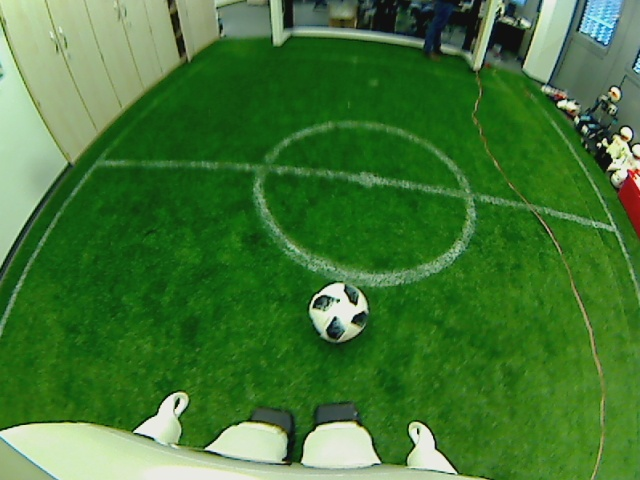ball: (306, 279, 370, 342)
